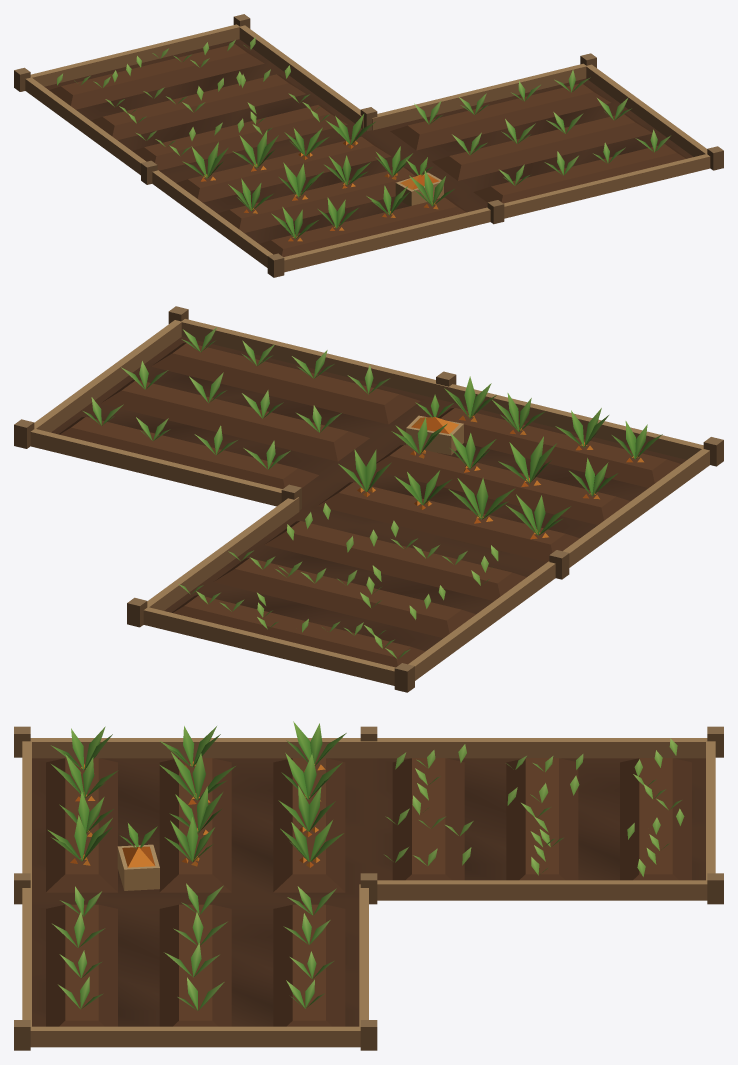
File: exemple-L.glb
The picture shows the model from 3 angles, top to bottom: view 1: azimuth 30°, elevation 25°; view 2: azimuth 150°, elevation 25°; view 3: azimuth 270°, elevation 25°; orthographic projection. The views are drawn at different scales.
Parts seen in each view (by area): view 1: EXEMPLE_L; view 2: EXEMPLE_L; view 3: EXEMPLE_L.
Boxes of the visible parts, x1,y1,x2,y2 form: EXEMPLE_L: (14, 14, 723, 277); EXEMPLE_L: (14, 306, 723, 692); EXEMPLE_L: (14, 721, 723, 1050).
Bounding box in the file's own units: 5.12 × 0.4118 × 5.12.
